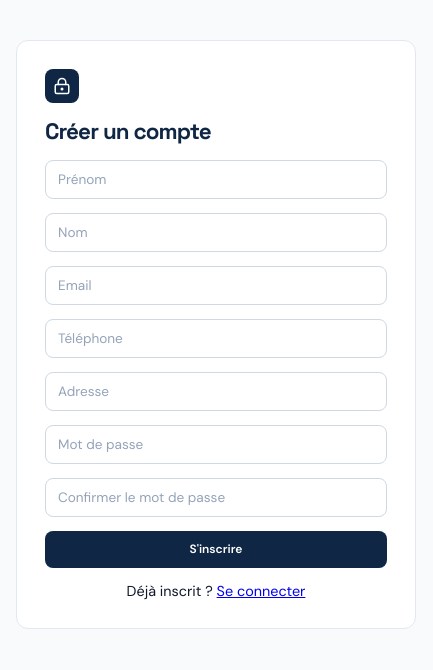
Scenario: shows the API error when register fails
The width and height of the screenshot is (433, 670).
Type "Ali" into the field labelled "Prénom".
click(216, 179); type("Ali")  # box [45,160,387,198]
Type "Ben" into the field labelled "Nom".
click(216, 232); type("Ben")  # box [45,212,387,252]
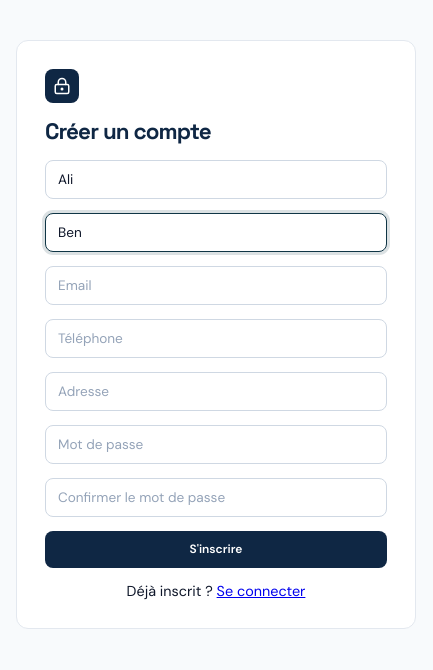
Type "ali@test.com" into the field labelled "Email".
click(216, 285); type("ali@test.com")  # box [45,266,387,304]
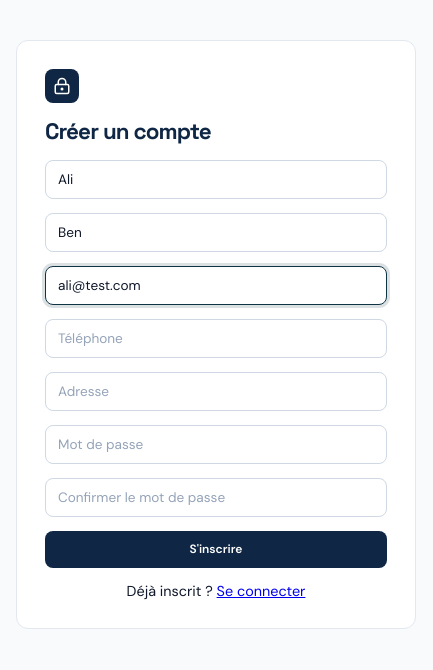
Type "Tunis" into the field labelled "Adresse".
click(216, 391); type("Tunis")  # box [45,372,387,410]
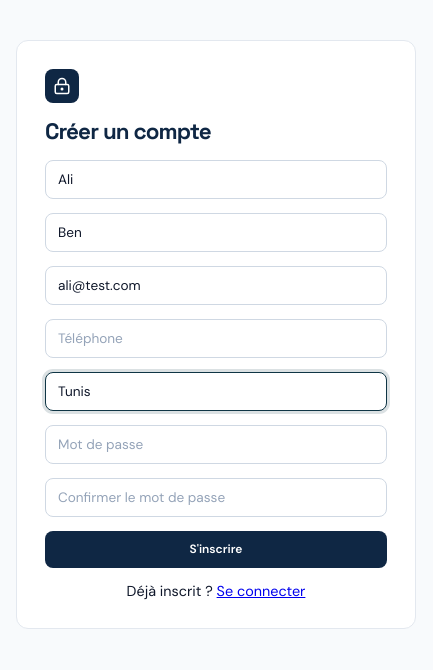
Type "Secret123!" into the password field labelled "Mot de passe".
click(216, 444); type("Secret123!")  # box [45,424,387,464]
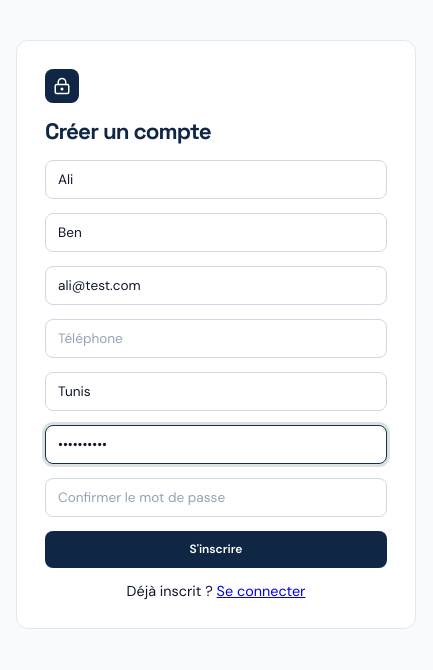
Type "Secret123!" into the password field labelled "Confirmer le mot de passe".
click(216, 497); type("Secret123!")  # box [45,478,387,516]
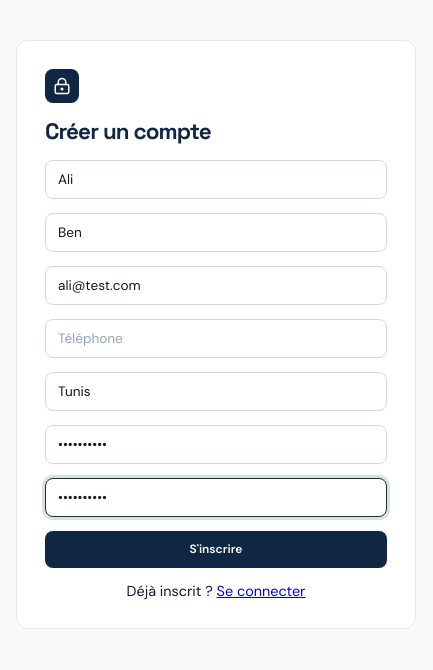
Click the button "S'inscrire".
click(216, 549)  # box [45,530,387,568]
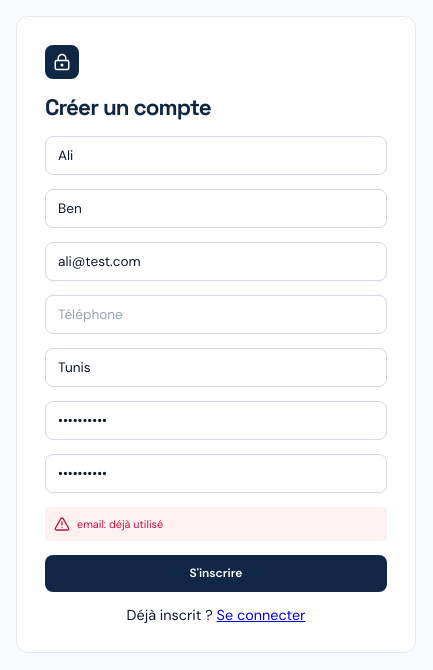
expect the text "email: déjà utilisé" is shown: met, box [45,506,387,540]
